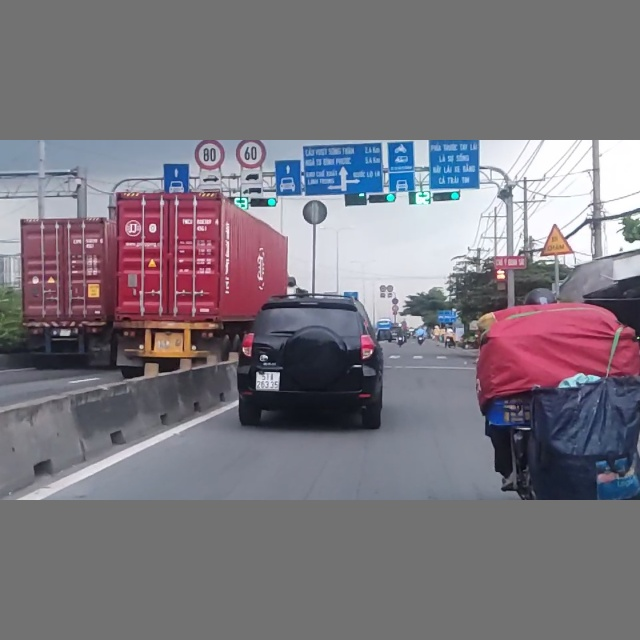P.127*60: (235, 141, 266, 169)
P.127*80: (194, 141, 225, 170)
W.245a: (539, 223, 574, 256)
